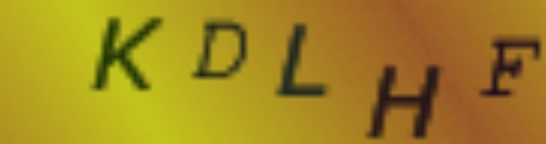D: (193, 18, 249, 83)
F: (475, 33, 544, 103)
H: (361, 61, 449, 142)
K: (92, 15, 163, 97)
L: (270, 18, 335, 100)
